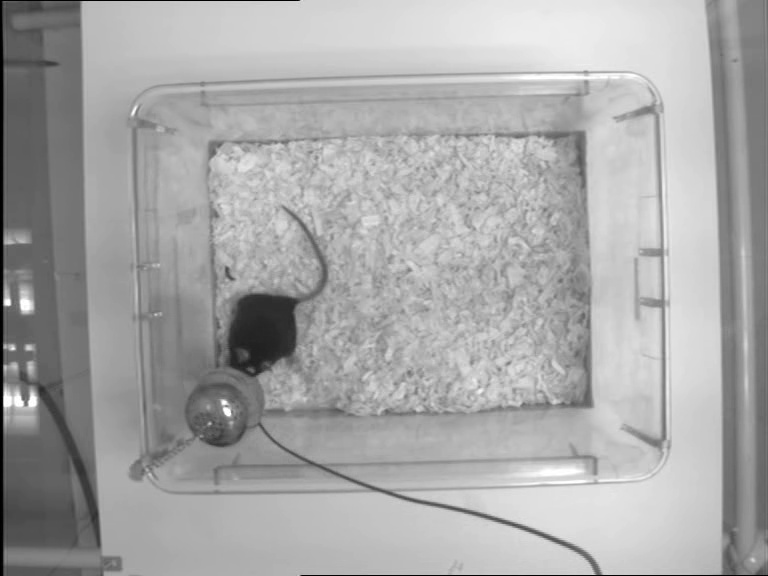mice: (225, 202, 329, 376)
